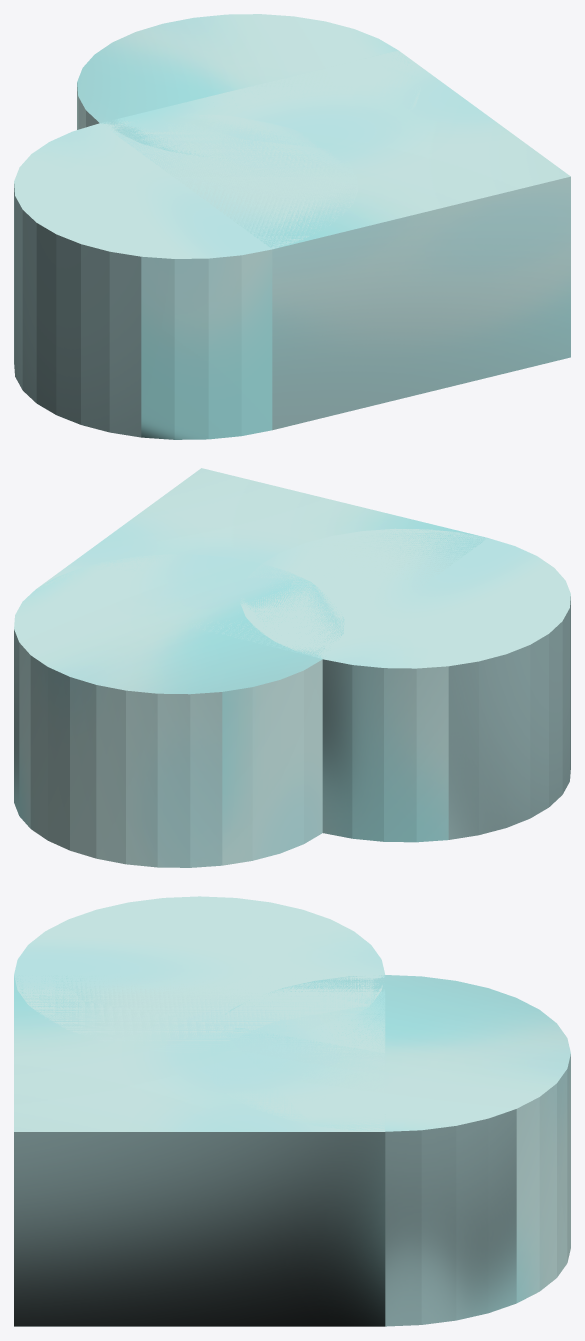
The model's file is life.obj.
The picture shows the model from 3 angles, top to bottom: view 1: azimuth 30°, elevation 25°; view 2: azimuth 150°, elevation 25°; view 3: azimuth 270°, elevation 25°; orthographic projection. The views are drawn at different scales.
Parts seen in each view (by area): view 1: 円柱.001; view 2: 円柱.001; view 3: 円柱.001.
Boxes of the visible parts, box(x1,y1,x2,y2) form: 円柱.001: box(14, 14, 570, 439); 円柱.001: box(14, 468, 570, 867); 円柱.001: box(14, 896, 570, 1326).
Size of the model in its own units: 3 by 1.16 by 3.
